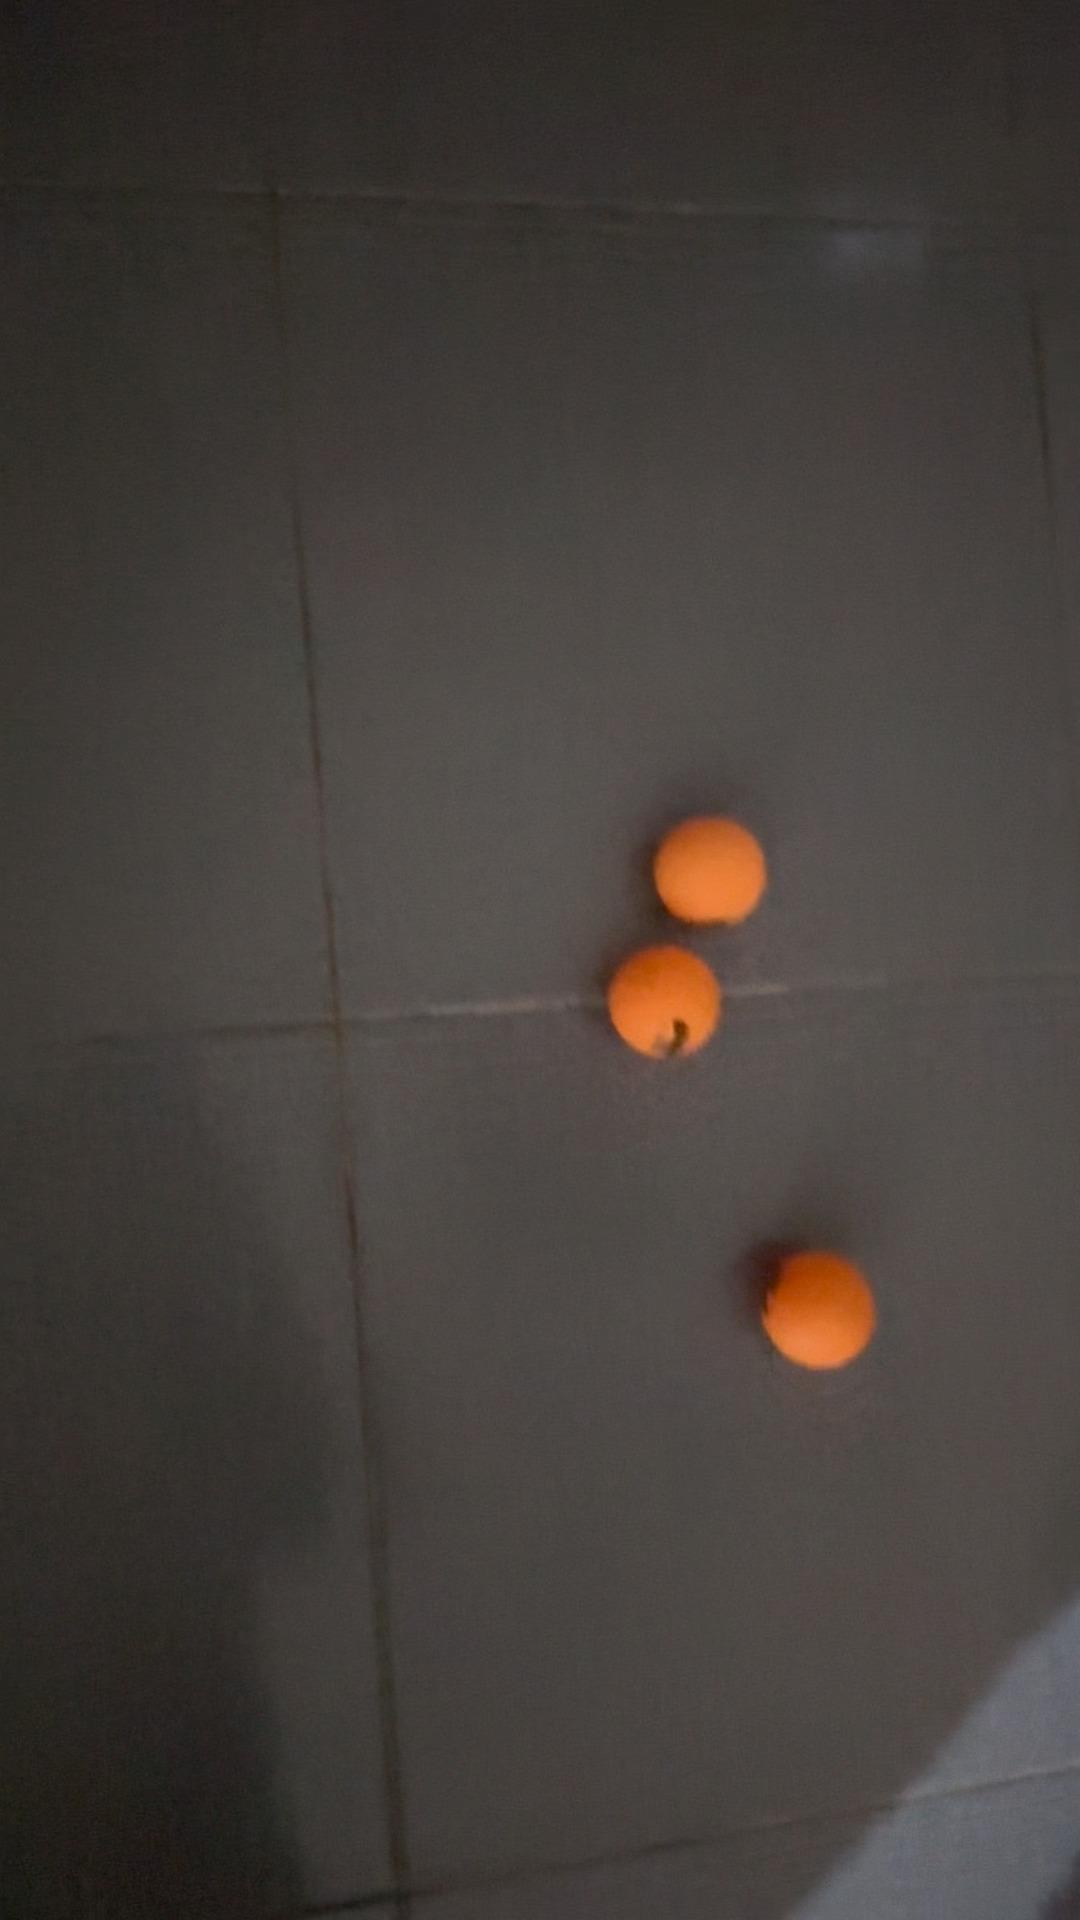oball: (752, 1238, 884, 1383), (595, 938, 727, 1064), (650, 811, 769, 928)
